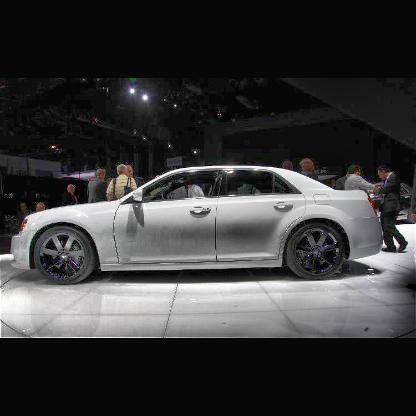Chrysler 300 SRT-8 2010: (10, 165, 386, 286)
